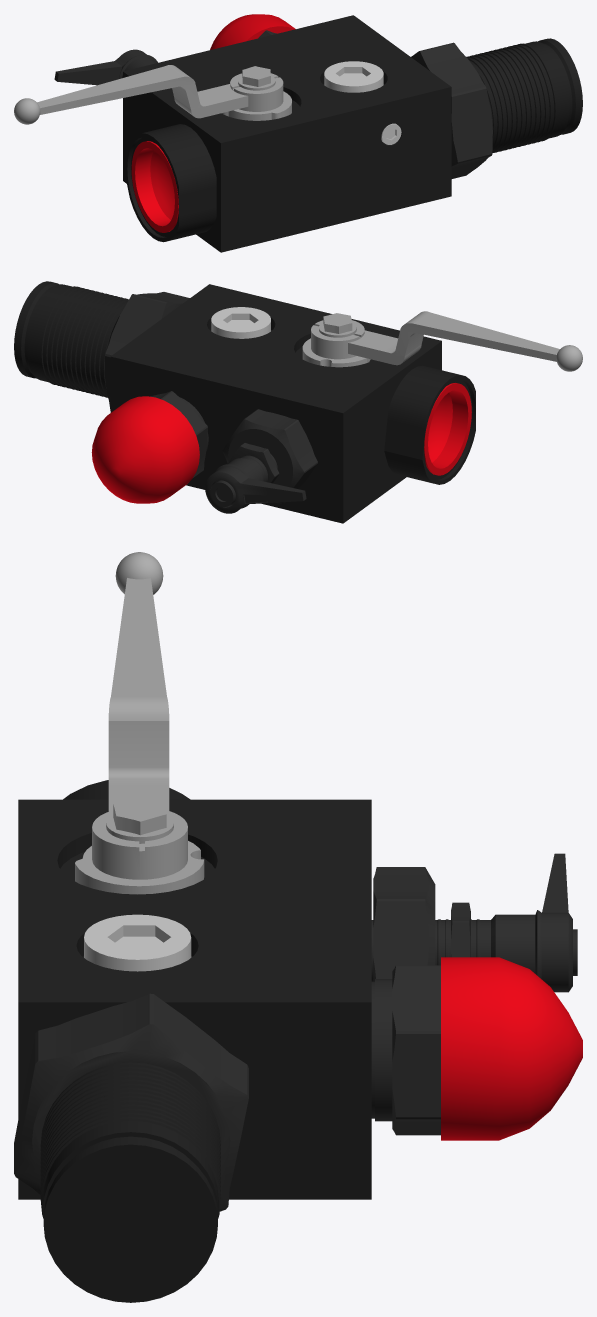
The picture shows the model from 3 angles, top to bottom: view 1: azimuth 30°, elevation 25°; view 2: azimuth 150°, elevation 25°; view 3: azimuth 270°, elevation 25°; orthographic projection. The views are drawn at different scales.
Parts seen in each view (by area): view 1: Cylinder.006, Cylinder.005, Cylinder.004, Cylinder.010; view 2: Cylinder.006, Cylinder.005, Cylinder.011, Cylinder.010, Cylinder.004, Cylinder.012; view 3: Cylinder.006, Cylinder.005, Cylinder.004, Cylinder.010, Cylinder.011, Cylinder.012.
Boxes of the visible parts, x1=… form: Cylinder.006: x1=14, y1=14, x2=451, y2=252; Cylinder.005: x1=466, y1=38, x2=582, y2=153; Cylinder.004: x1=411, y1=42, x2=493, y2=178; Cylinder.010: x1=54, y1=49, x2=157, y2=85; Cylinder.006: x1=91, y1=284, x2=582, y2=523; Cylinder.005: x1=14, y1=281, x2=128, y2=397; Cylinder.011: x1=222, y1=409, x2=317, y2=504; Cylinder.010: x1=205, y1=454, x2=306, y2=513; Cylinder.004: x1=104, y1=292, x2=189, y2=410; Cylinder.012: x1=228, y1=443, x2=279, y2=483; Cylinder.006: x1=18, y1=552, x2=582, y2=1199; Cylinder.005: x1=40, y1=1062, x2=220, y2=1302; Cylinder.004: x1=14, y1=993, x2=248, y2=1211; Cylinder.010: x1=371, y1=853, x2=577, y2=992; Cylinder.011: x1=373, y1=867, x2=435, y2=981; Cylinder.012: x1=451, y1=902, x2=470, y2=957.
Bounding box in the file's own units: 6.89 × 2.13 × 3.49.
